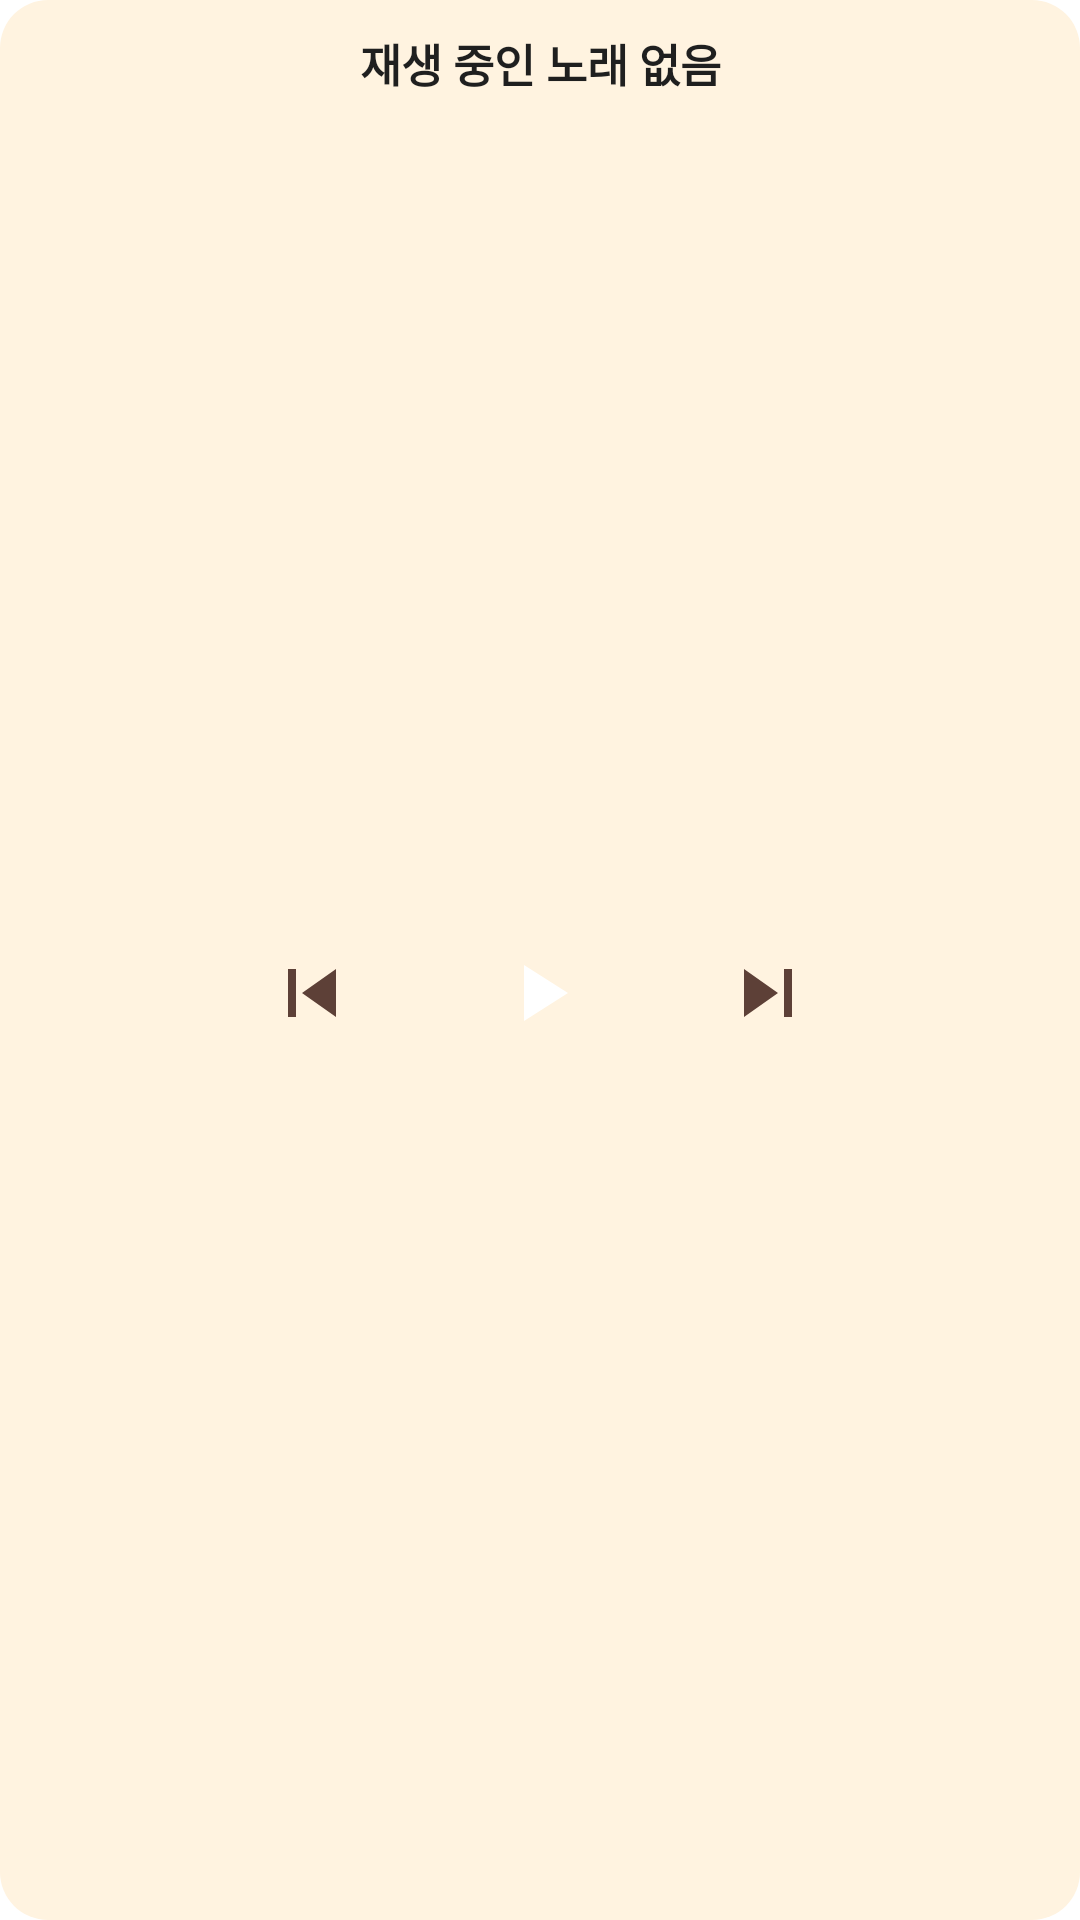

Locate icon controls on the screen. Image size 1080 x 1920, boxes as (x1, y1, x2, y2).
다음 곡: (744, 969, 792, 1017)
이전 곡: (288, 969, 336, 1017)
재생/정지: (524, 966, 567, 1020)
